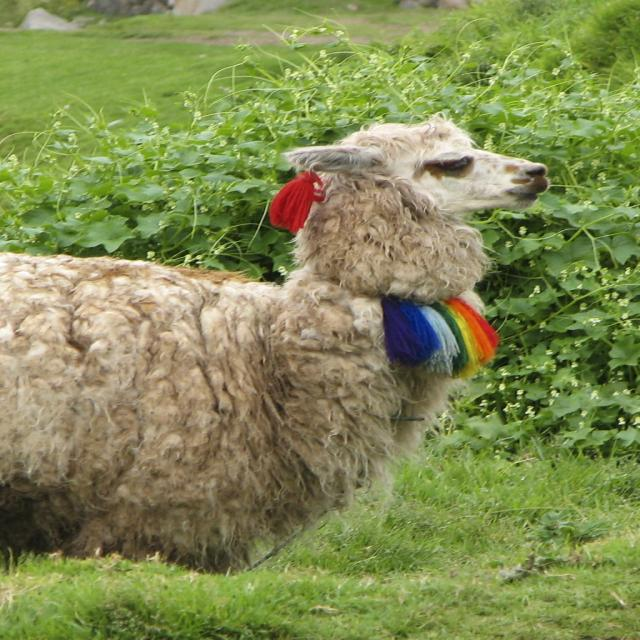Sheep: (0, 112, 548, 575)
